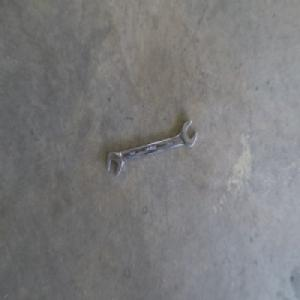Wrench: (106, 119, 197, 177)
